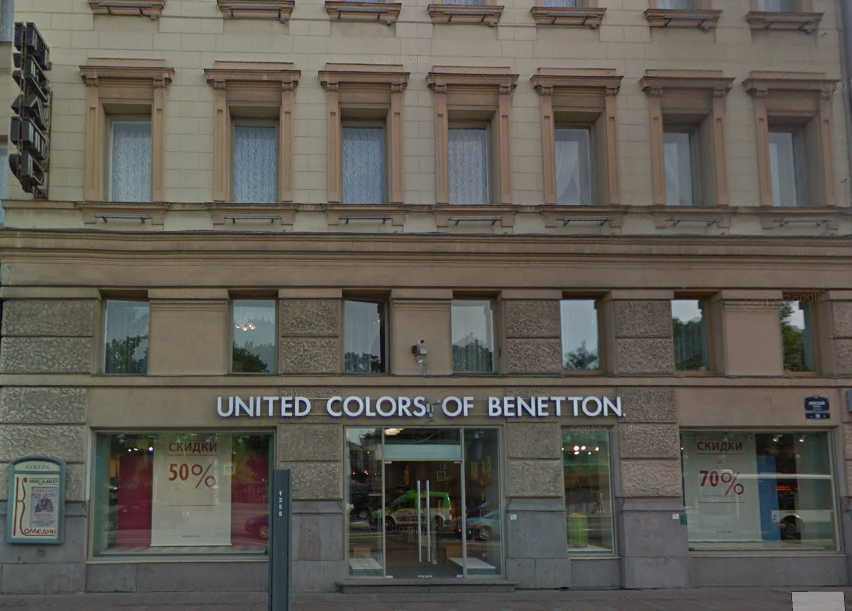cantilever: (1, 20, 59, 205)
signboard: (208, 383, 620, 423)
window: (95, 427, 271, 559), (350, 426, 498, 576), (681, 428, 839, 553), (563, 427, 620, 559), (102, 111, 150, 202), (229, 117, 278, 205), (449, 116, 495, 207), (449, 298, 499, 376), (551, 124, 600, 202), (559, 294, 608, 371), (670, 293, 717, 373), (102, 296, 150, 374), (664, 123, 707, 207), (233, 296, 278, 373), (344, 298, 388, 376), (342, 127, 386, 202), (781, 302, 824, 378), (766, 129, 806, 205)
